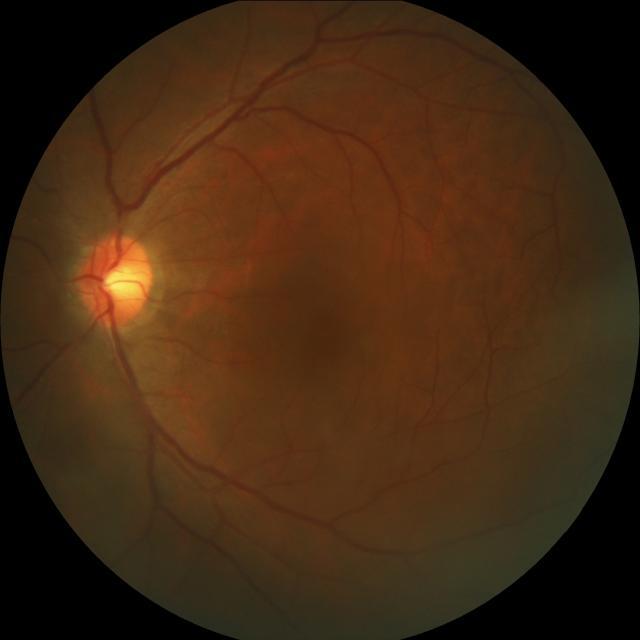OC: (100, 256, 139, 302)
OD: (77, 233, 152, 326)
